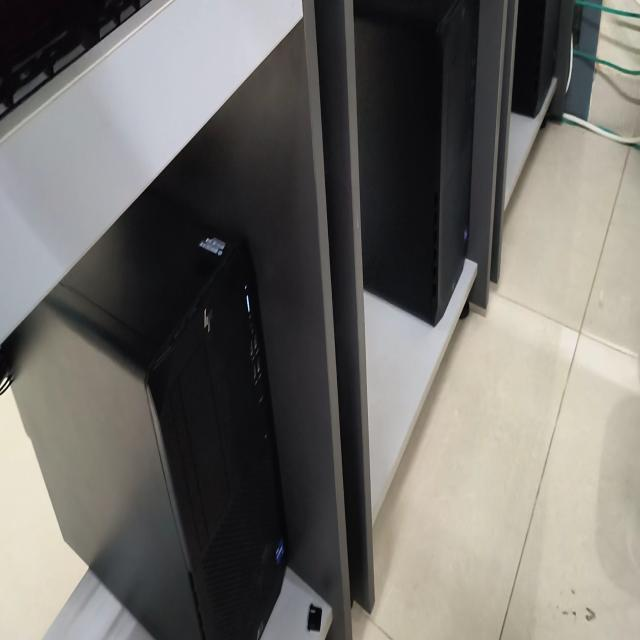Cpu: (15, 191, 332, 639), (354, 0, 478, 325), (512, 0, 559, 117)
Keyboard: (0, 0, 150, 120)
